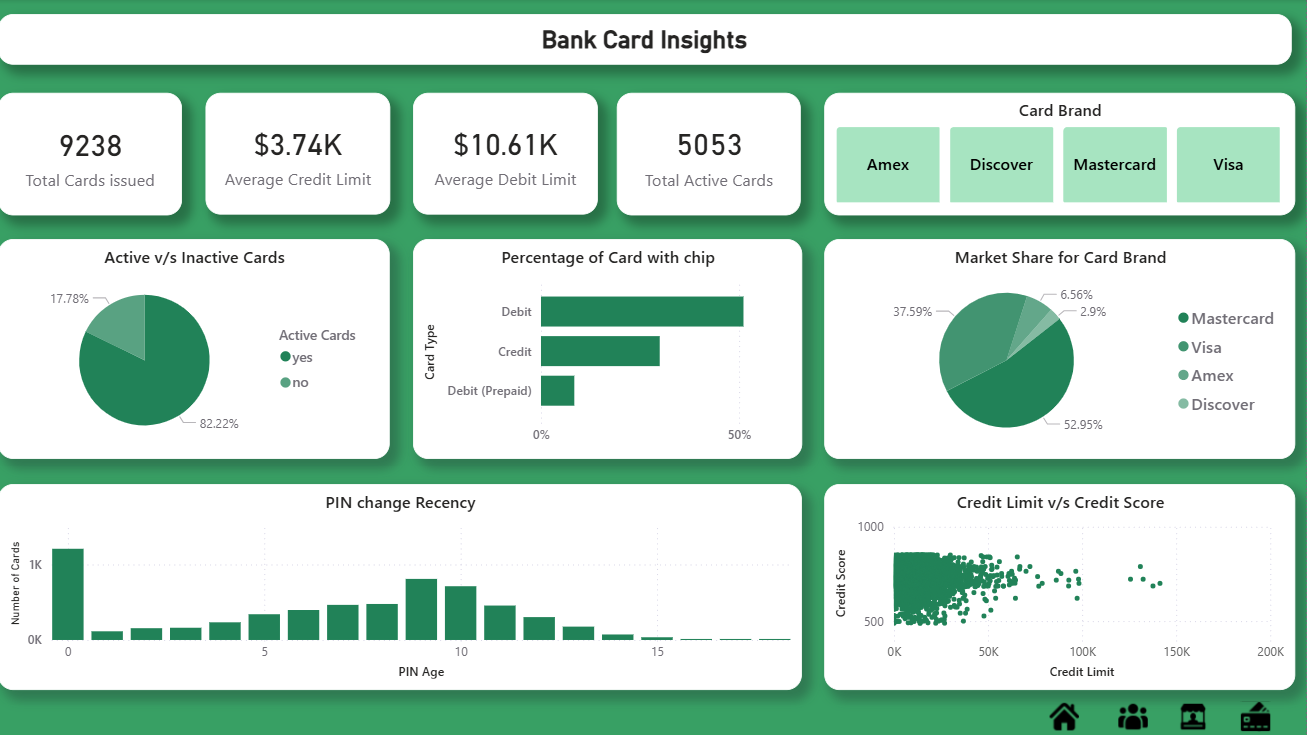

Layout of this report page (visuals, bound fields, positions):
{"tool":"powerbi","page":{"name":"Card","canvas":[1280,720],"ordinal":3},"visuals":[{"type":"barChart","title":"Percentage of Card with chip","fields":{"Category":["cards_data.card_type"],"Y":["Report_measure.% Cards with Chip"]},"box":[405.6,234.7,380.6,215],"z":0},{"type":"pieChart","title":"Market Share for Card Brand","fields":{"Y":["CountNonNull(transactions.client_id)"],"Category":["cards_data.card_brand"]},"box":[808,234.7,461.1,215],"z":1000},{"type":"card","fields":{"Values":["Report_measure.Average_credit_limit"]},"box":[202.8,91.7,180.6,119.4],"z":2000},{"type":"card","fields":{"Values":["Report_measure.Num_cards_issued"]},"box":[0,91.1,180,120],"z":3000},{"type":"card","fields":{"Values":["Report_measure.Average_Debit_limit"]},"box":[405.6,91.7,180.6,119.4],"z":4000},{"type":"card","fields":{"Values":["Report_measure.No_of_active_cards"]},"box":[605.6,91.5,180.3,119.7],"z":5000},{"type":"pieChart","title":"Active v/s Inactive Cards","fields":{"Category":["cards_data.Active_cards"],"Y":["CountNonNull(cards_data.Active_cards)"]},"box":[0,234.7,383,215],"z":6000},{"type":"advancedSlicerVisual","title":"Card Brand","fields":{"Values":["cards_data.card_brand"]},"box":[808,91.5,460.6,119.7],"z":7000},{"type":"columnChart","title":"PIN change Recency","fields":{"Category":["cards_data.PIN Age"],"Y":["Count(cards_data.id)"]},"box":[0,475,786.1,201.4],"z":8000},{"type":"scatterChart","title":"Credit Limit v/s Credit Score","fields":{"X":["cards_data.credit_limit"],"Y":["users_data.credit_score"]},"box":[808,475,461.1,201.4],"z":9000},{"type":"actionButton","box":[1025.2,683.1,43.1,36.9],"z":10000},{"type":"actionButton","box":[1091.7,683.1,36.9,36.9],"z":11000},{"type":"actionButton","box":[1150.8,683.1,43.1,36.9],"z":12000},{"type":"actionButton","box":[1212.3,683.1,36.9,36.9],"z":13000},{"type":"textbox","box":[0,14.8,1265.2,49.2],"z":14000}]}

Visuals, with their boxes in screenshot pixels (x1, y1, x2, y2), scaled from the page's 1280x720 canvas onto the 1307x735 screenshot:
"Percentage of Card with chip" barChart: [x1=414, y1=240, x2=803, y2=459]
"Market Share for Card Brand" pieChart: [x1=825, y1=240, x2=1296, y2=459]
card - Report_measure.Average_credit_limit: [x1=207, y1=94, x2=391, y2=215]
card - Report_measure.Num_cards_issued: [x1=0, y1=93, x2=184, y2=215]
card - Report_measure.Average_Debit_limit: [x1=414, y1=94, x2=599, y2=215]
card - Report_measure.No_of_active_cards: [x1=618, y1=93, x2=802, y2=216]
"Active v/s Inactive Cards" pieChart: [x1=0, y1=240, x2=391, y2=459]
"Card Brand" advancedSlicerVisual: [x1=825, y1=93, x2=1295, y2=216]
"PIN change Recency" columnChart: [x1=0, y1=485, x2=803, y2=690]
"Credit Limit v/s Credit Score" scatterChart: [x1=825, y1=485, x2=1296, y2=690]
actionButton: [x1=1047, y1=697, x2=1091, y2=734]
actionButton: [x1=1115, y1=697, x2=1152, y2=734]
actionButton: [x1=1175, y1=697, x2=1219, y2=734]
actionButton: [x1=1238, y1=697, x2=1276, y2=734]
textbox: [x1=0, y1=15, x2=1292, y2=65]
